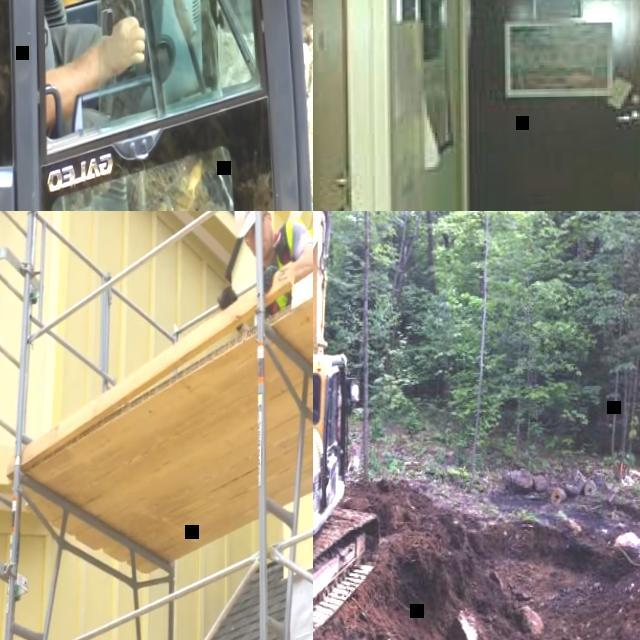helmet: (233, 211, 267, 239)
vest: (263, 215, 313, 314)
